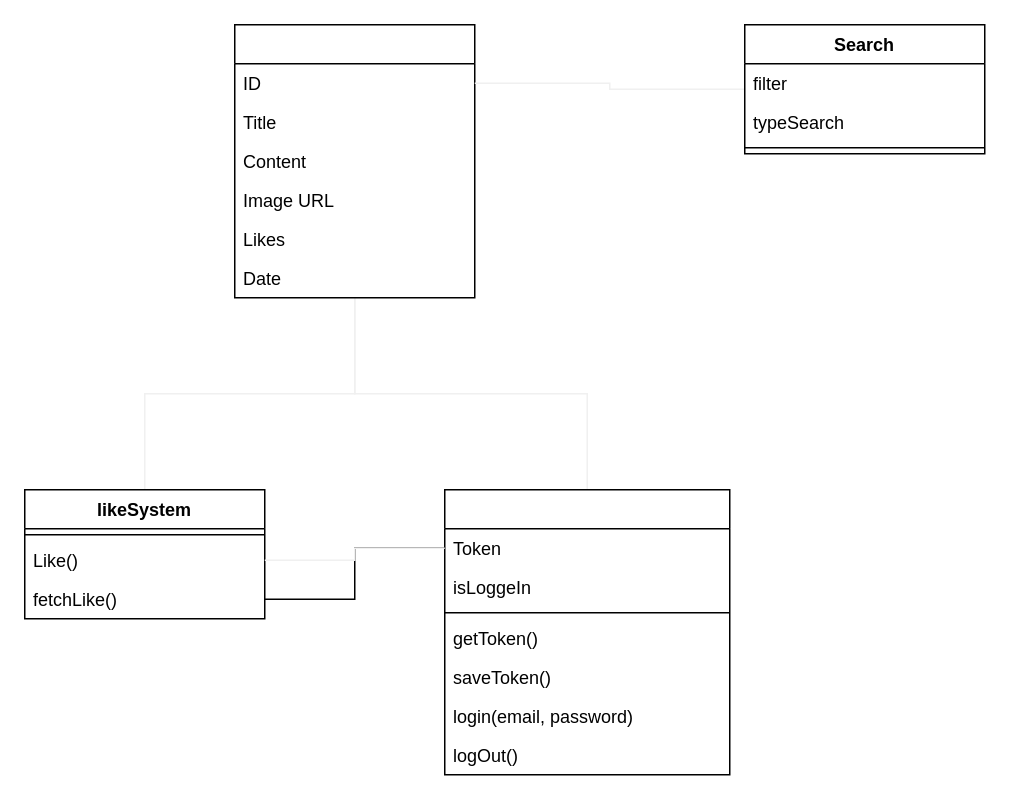
The diagram is 1010 pixels wide and 800 high, and some of its shapes have lost their labels. Each missing label, with the box of its shape:
Articels: (233, 23, 475, 298)
userSystem: (443, 488, 730, 775)
